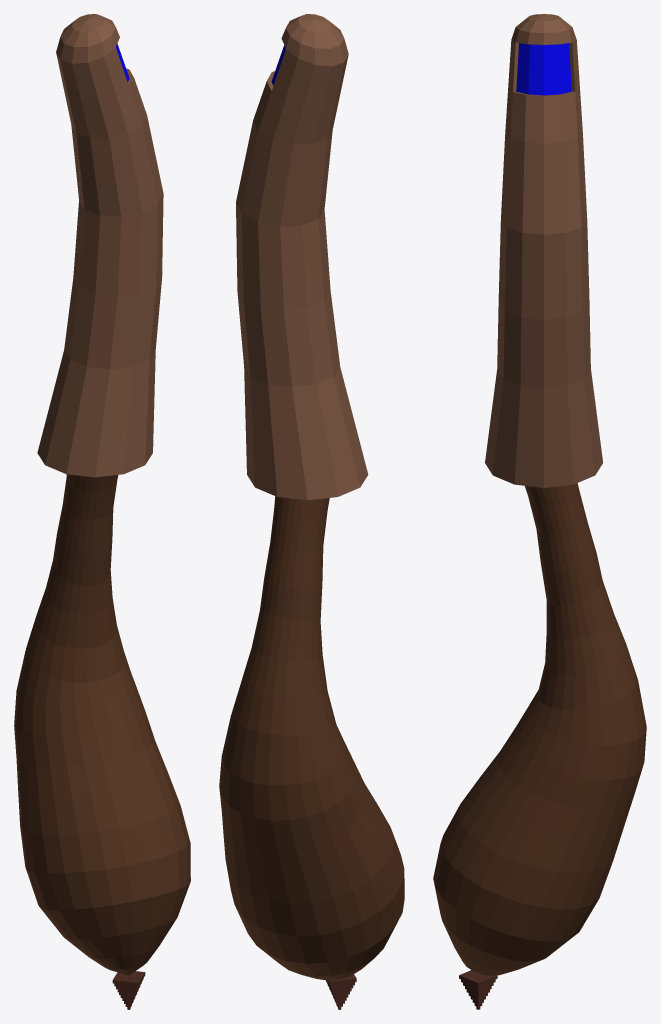
The model's file is Wand 744.glb.
3 renders of one model, left to right at view 1: azimuth 30°, elevation 25°; view 2: azimuth 150°, elevation 25°; view 3: azimuth 270°, elevation 25°, orthographic. The views are drawn at different scales.
Parts seen in each view (by area): view 1: GeneratedWand; view 2: GeneratedWand; view 3: GeneratedWand.
Part boxes in pixels (x1,y1,x2,y2): GeneratedWand: (14,14,190,1009); GeneratedWand: (219,14,404,1009); GeneratedWand: (433,14,646,1009).
Size of the model in its own units: 0.0828 by 0.5282 by 0.1032.
